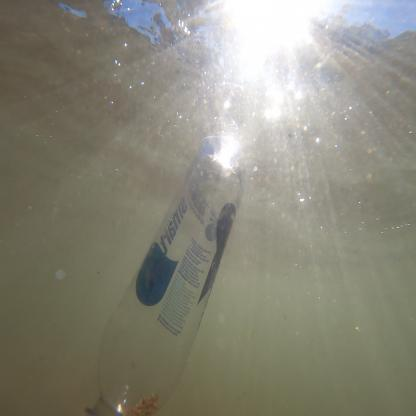Rác: (75, 101, 275, 416)
